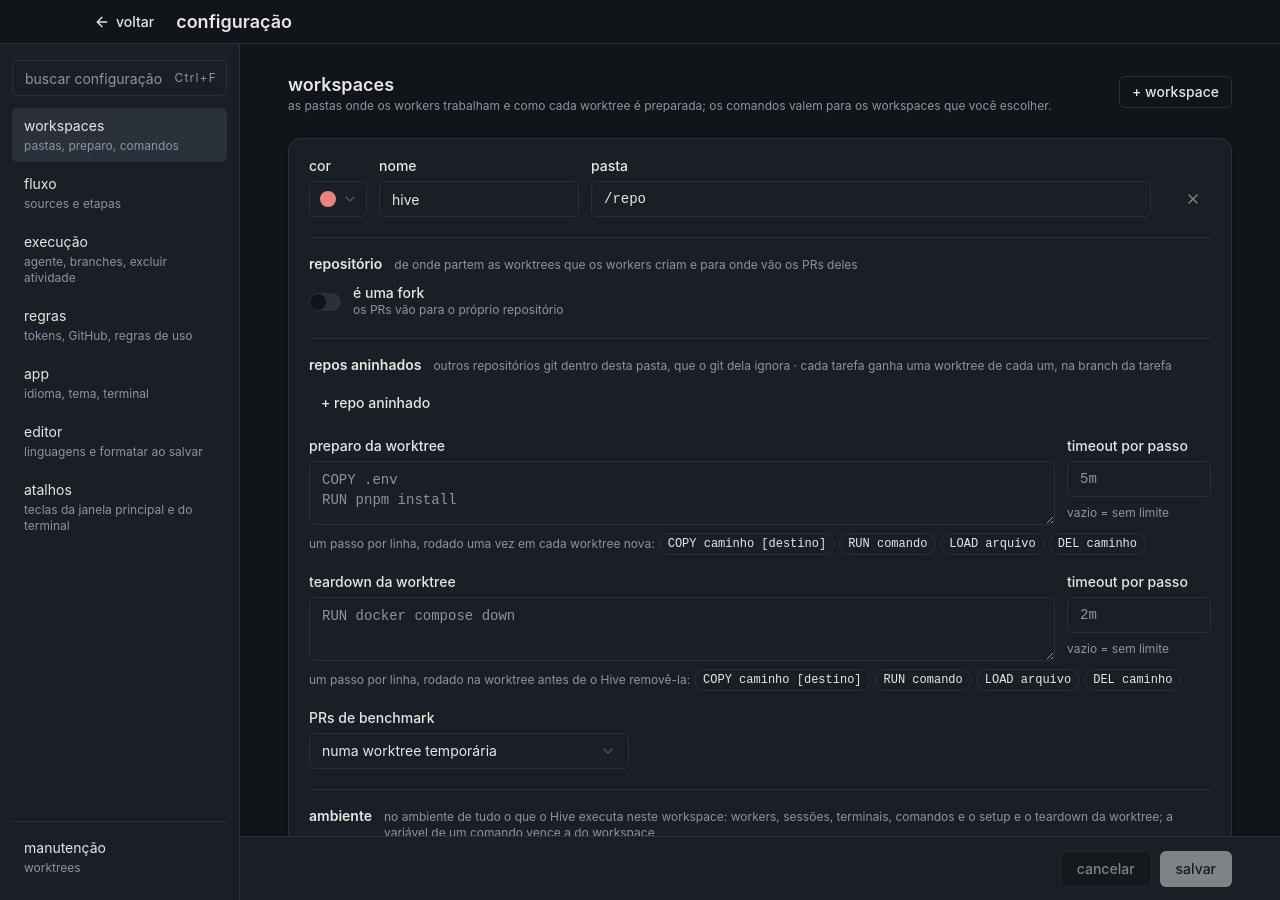
Test: the footer counts the unsaved changes by section, and an edit survives a section switch (#510)
Expected: the button "salvar" is disabled, [1160, 850, 1232, 886]
Expected: the button "cancelar" is disabled, [1060, 850, 1152, 886]
Click the button "execução": x=120, y=259 [12, 224, 227, 294]
(page scrolled)
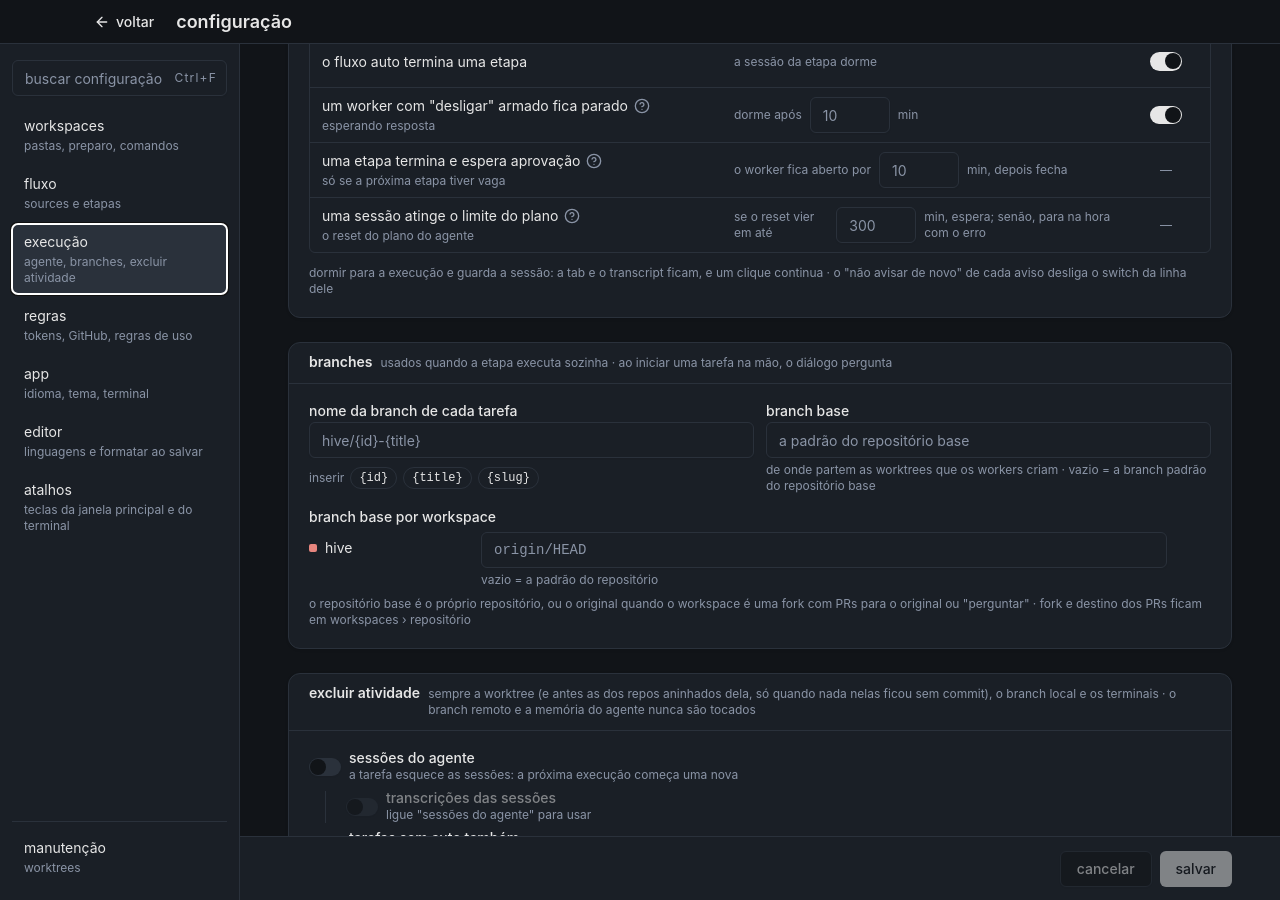
In the field labelled "nome da branch de cada tarefa": x=532, y=440 [309, 422, 754, 458], type "x"
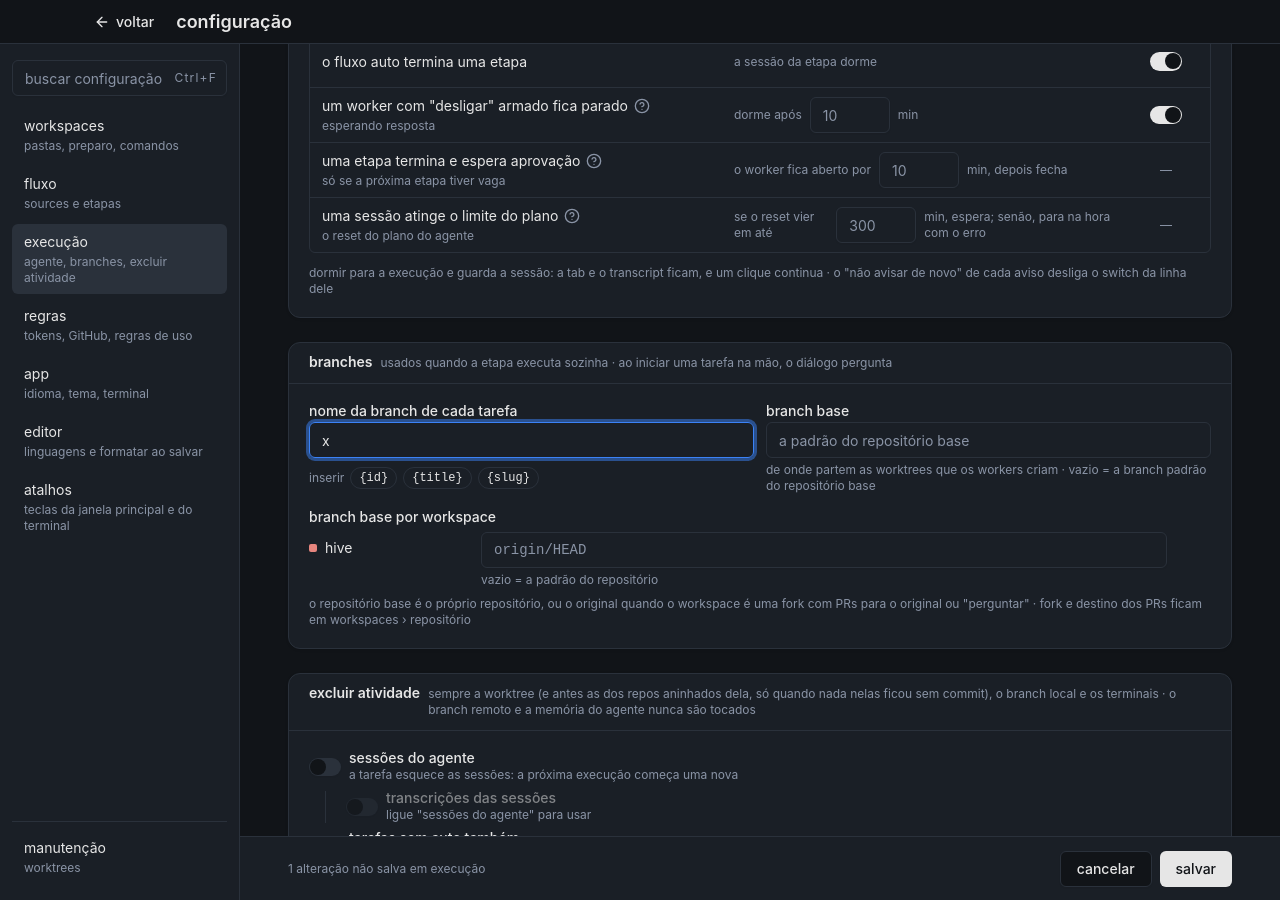
Expected: the button "salvar" is enabled, [1160, 850, 1232, 886]
Expected: the button "cancelar" is enabled, [1060, 850, 1152, 886]
Click the button "app idioma, tema, terminal": x=120, y=383 [12, 356, 227, 410]
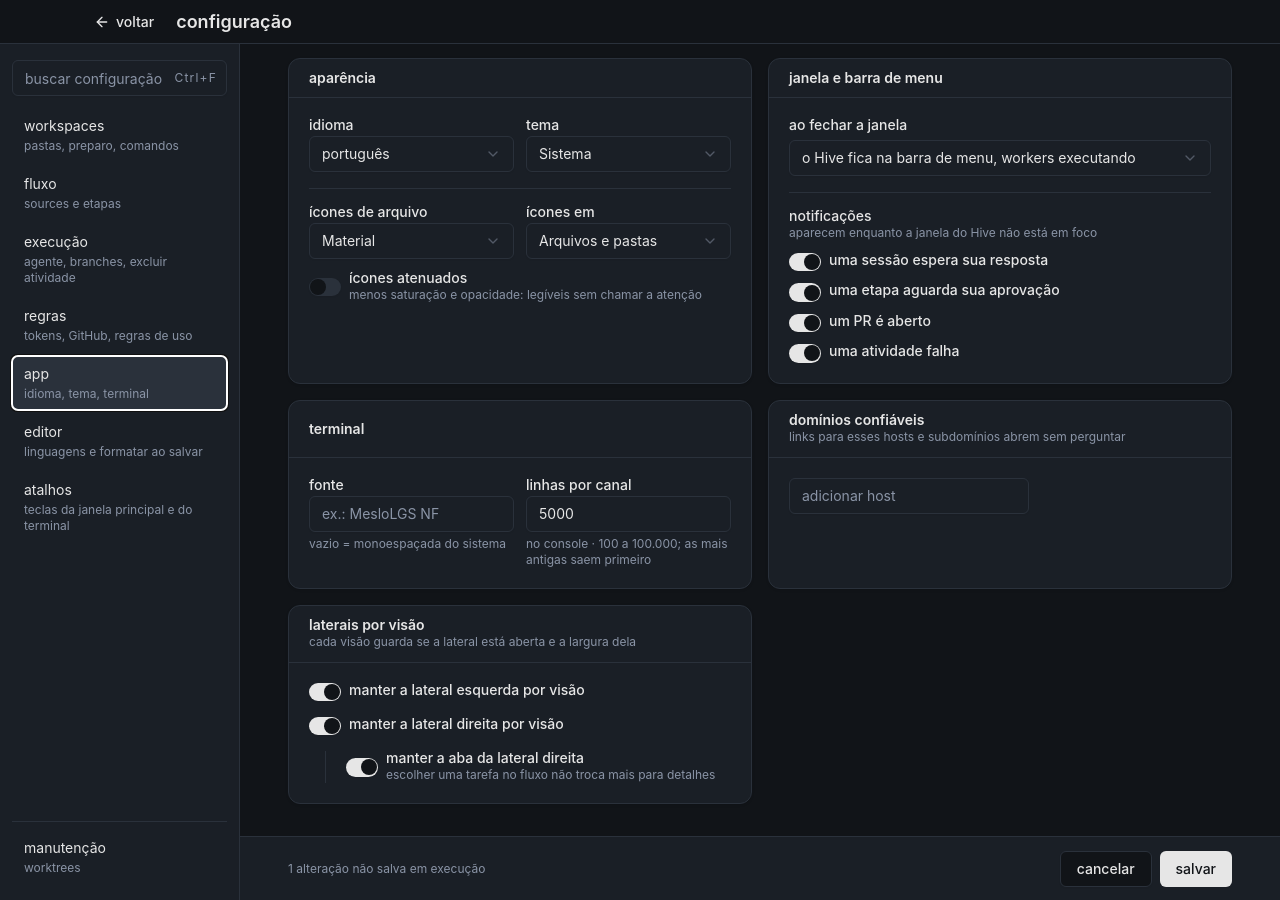
Click the dropdown named "ao fechar a janela": x=1000, y=158 [789, 140, 1211, 176]
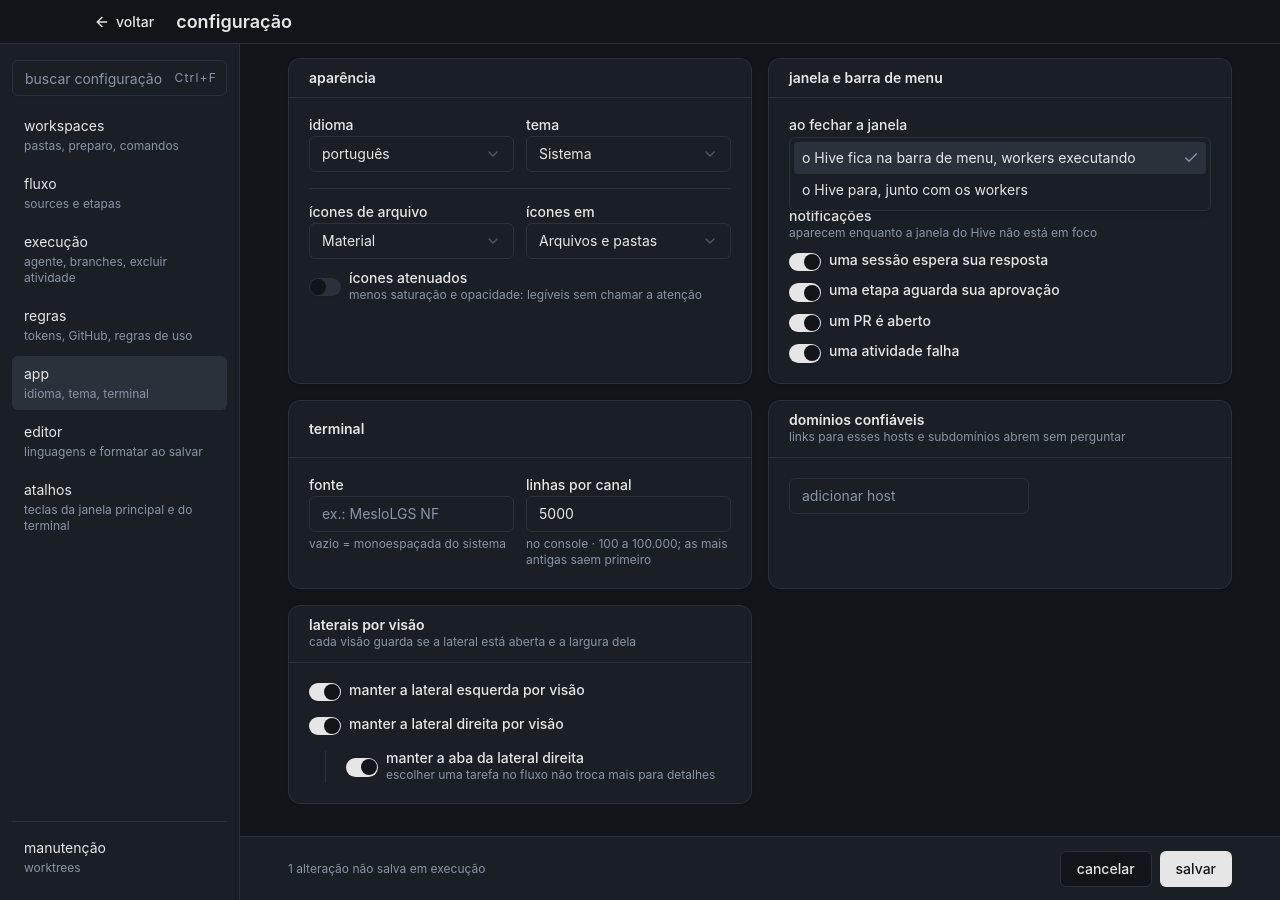
Click the option "o Hive para, junto com os workers": x=915, y=190 [802, 181, 1028, 198]
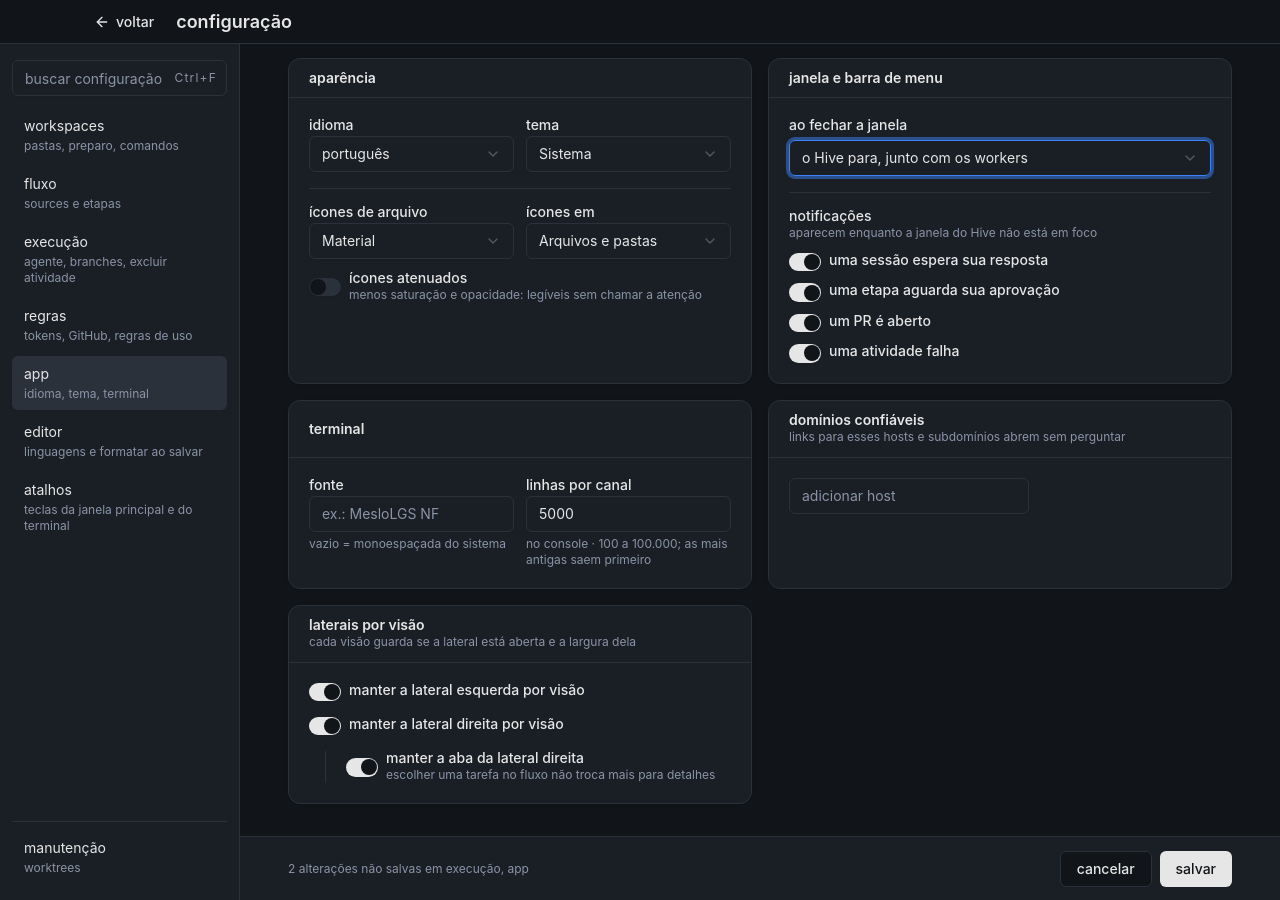
Click the button "execução": x=120, y=259 [12, 224, 227, 294]
(page scrolled)
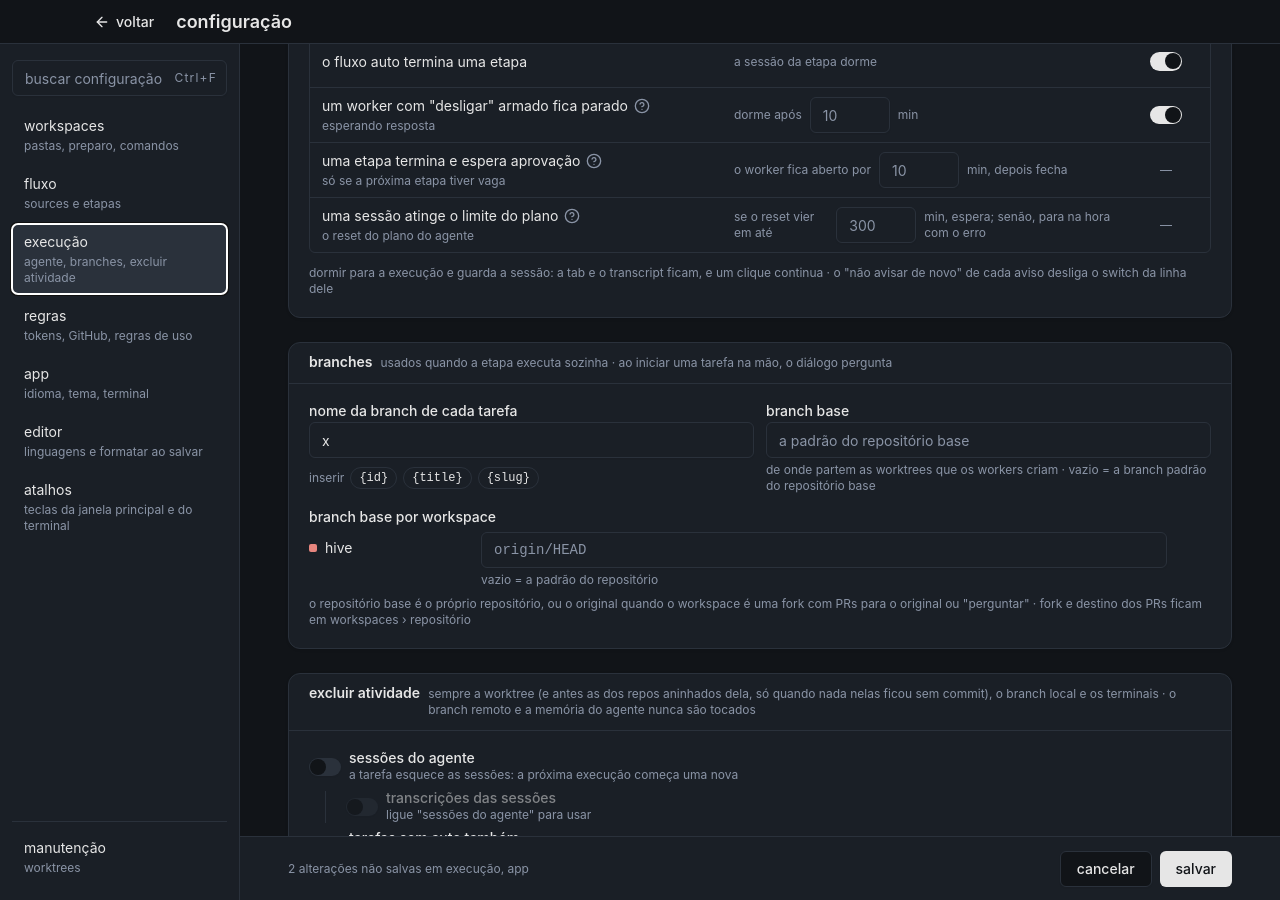
Expected: the field labelled "nome da branch de cada tarefa" holds "x", [309, 422, 754, 458]
